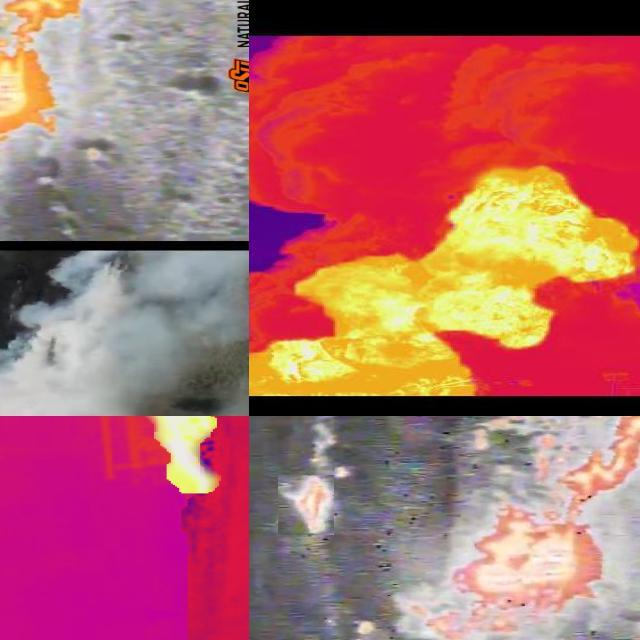fire: (250, 150, 640, 396), (400, 512, 612, 640), (456, 417, 640, 514), (57, 417, 233, 504), (1, 32, 62, 168), (278, 476, 334, 536), (334, 618, 381, 640)
